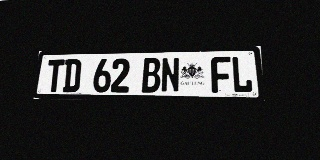2: (111, 58, 130, 92)
6: (93, 59, 112, 92)
B: (142, 58, 161, 93)
D: (62, 59, 82, 92)
F: (211, 57, 232, 93)
L: (231, 56, 253, 93)
N: (161, 57, 180, 93)
T: (45, 59, 65, 92)
